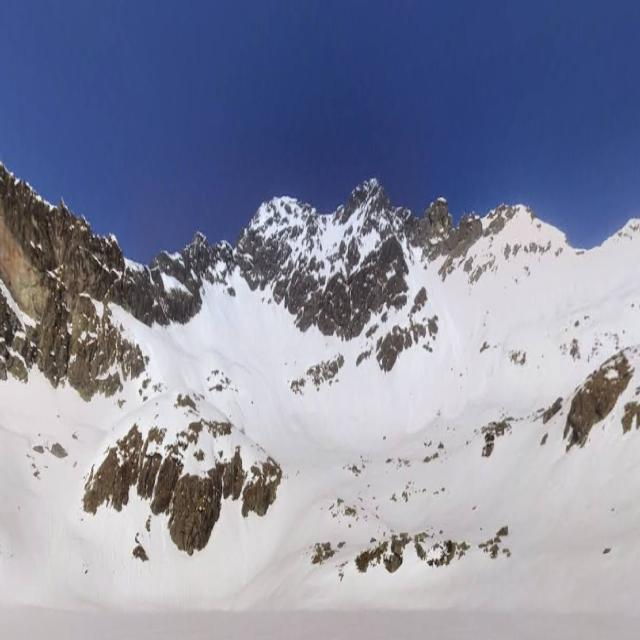Swinica: (193, 94, 374, 304)
